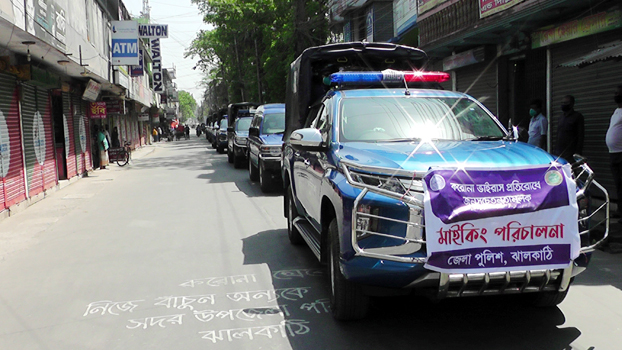car: (247, 103, 288, 191)
policecar: (279, 40, 610, 326), (226, 101, 255, 166), (215, 105, 228, 155)
